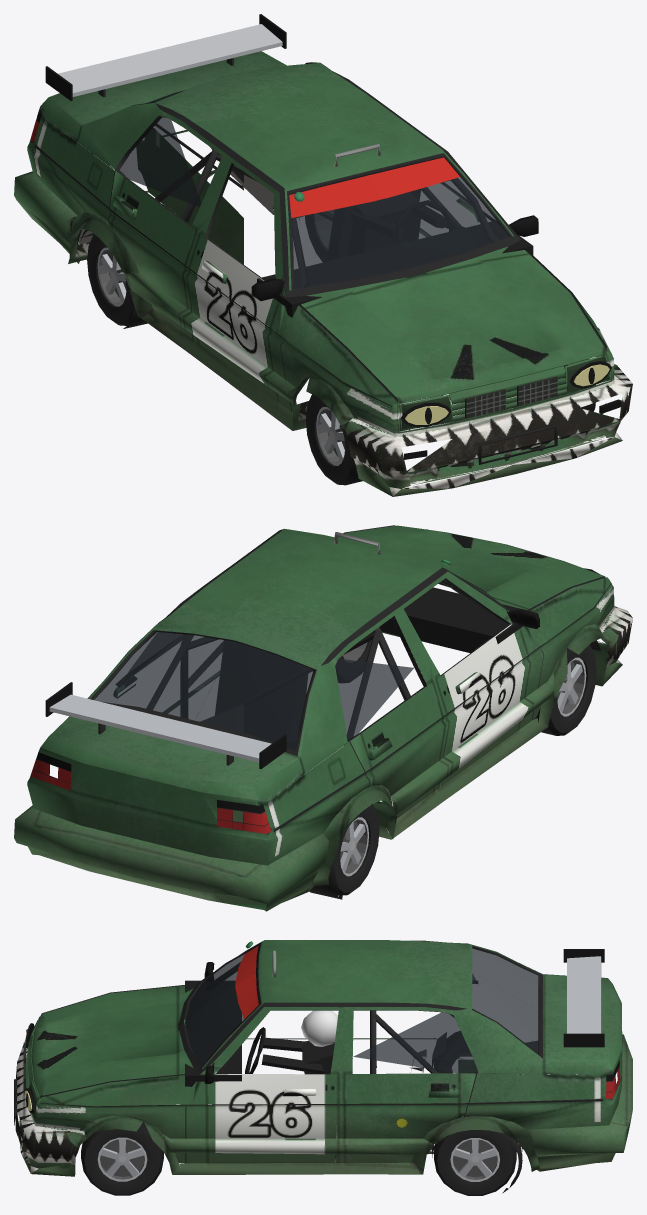
3 views of the same model, one above another, from view 1: azimuth 30°, elevation 25°; view 2: azimuth 150°, elevation 25°; view 3: azimuth 270°, elevation 25° (orthographic). The views are drawn at different scales.
Visible parts, largest first — view 1: body, wheel_fr, wheel_rr, wheel_rl; view 2: body, wheel_fr, wheel_rr, wheel_fl; view 3: body, wheel_fl, wheel_rl, wheel_rr.
Boxes of the visible parts, box(x1,y1,x2,y2) form: body: box(14, 14, 632, 496); wheel_fr: box(305, 394, 362, 485); wheel_rr: box(87, 234, 134, 325); wheel_rl: box(305, 210, 333, 262); body: box(14, 525, 632, 911); wheel_fr: box(533, 644, 596, 735); wheel_rr: box(335, 804, 379, 895); wheel_fl: box(335, 632, 372, 682); body: box(14, 940, 632, 1193); wheel_fl: box(81, 1121, 163, 1195); wheel_rl: box(434, 1130, 516, 1195); wheel_rr: box(434, 1031, 469, 1073).
Size of the model in its own units: 1.86 by 1.49 by 4.33.
2 materials, 1 textured.
